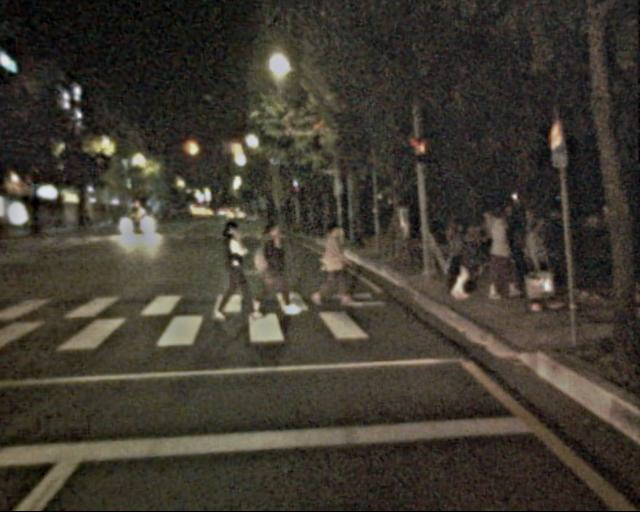person: (209, 220, 250, 320), (481, 208, 526, 297), (249, 220, 289, 317), (520, 217, 559, 312), (313, 221, 349, 310), (439, 212, 475, 301), (538, 208, 573, 294)
